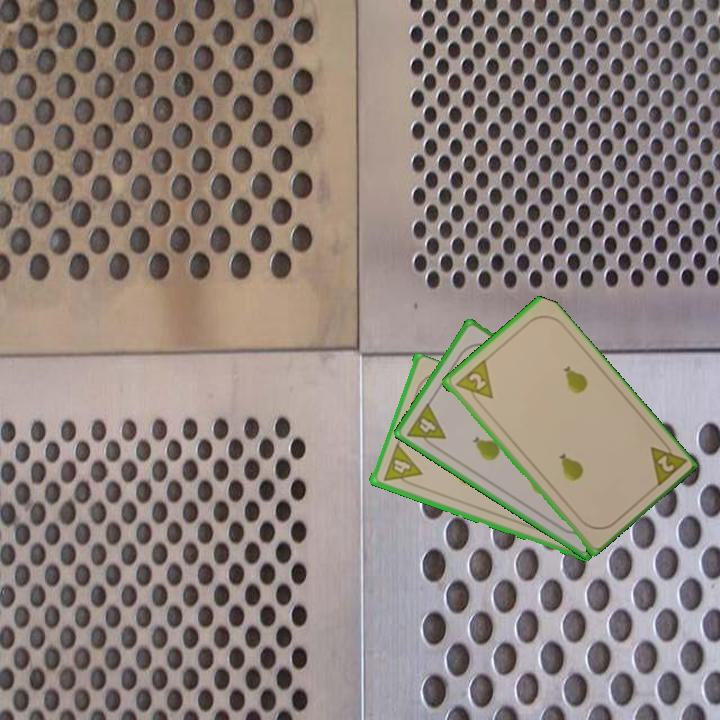2p: (646, 434, 688, 490), (451, 357, 496, 409)
4p: (403, 399, 449, 453), (380, 441, 424, 490)
